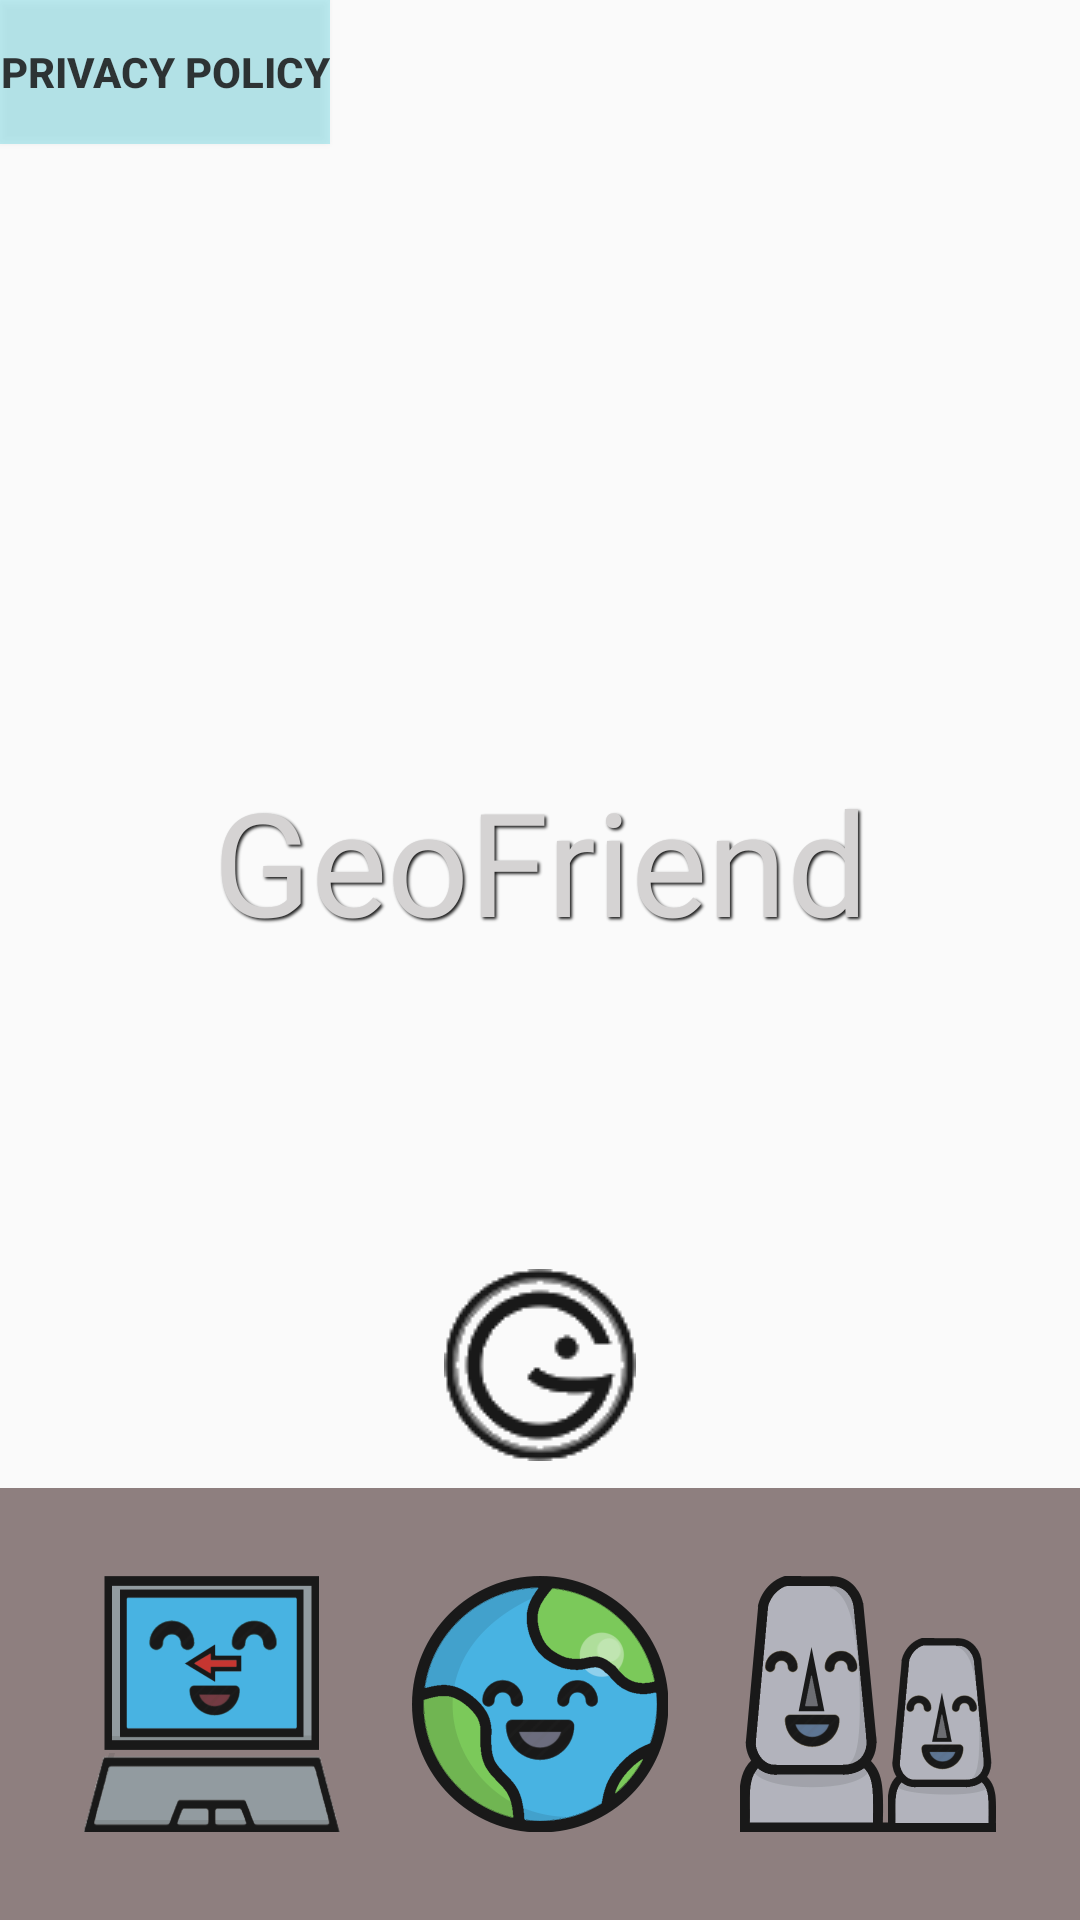

Where to tap for icons on this 1080x1920 app screen, as (x,y):
explore: (540,1704)
landmarks: (868,1704)
signout: (212,1704)
